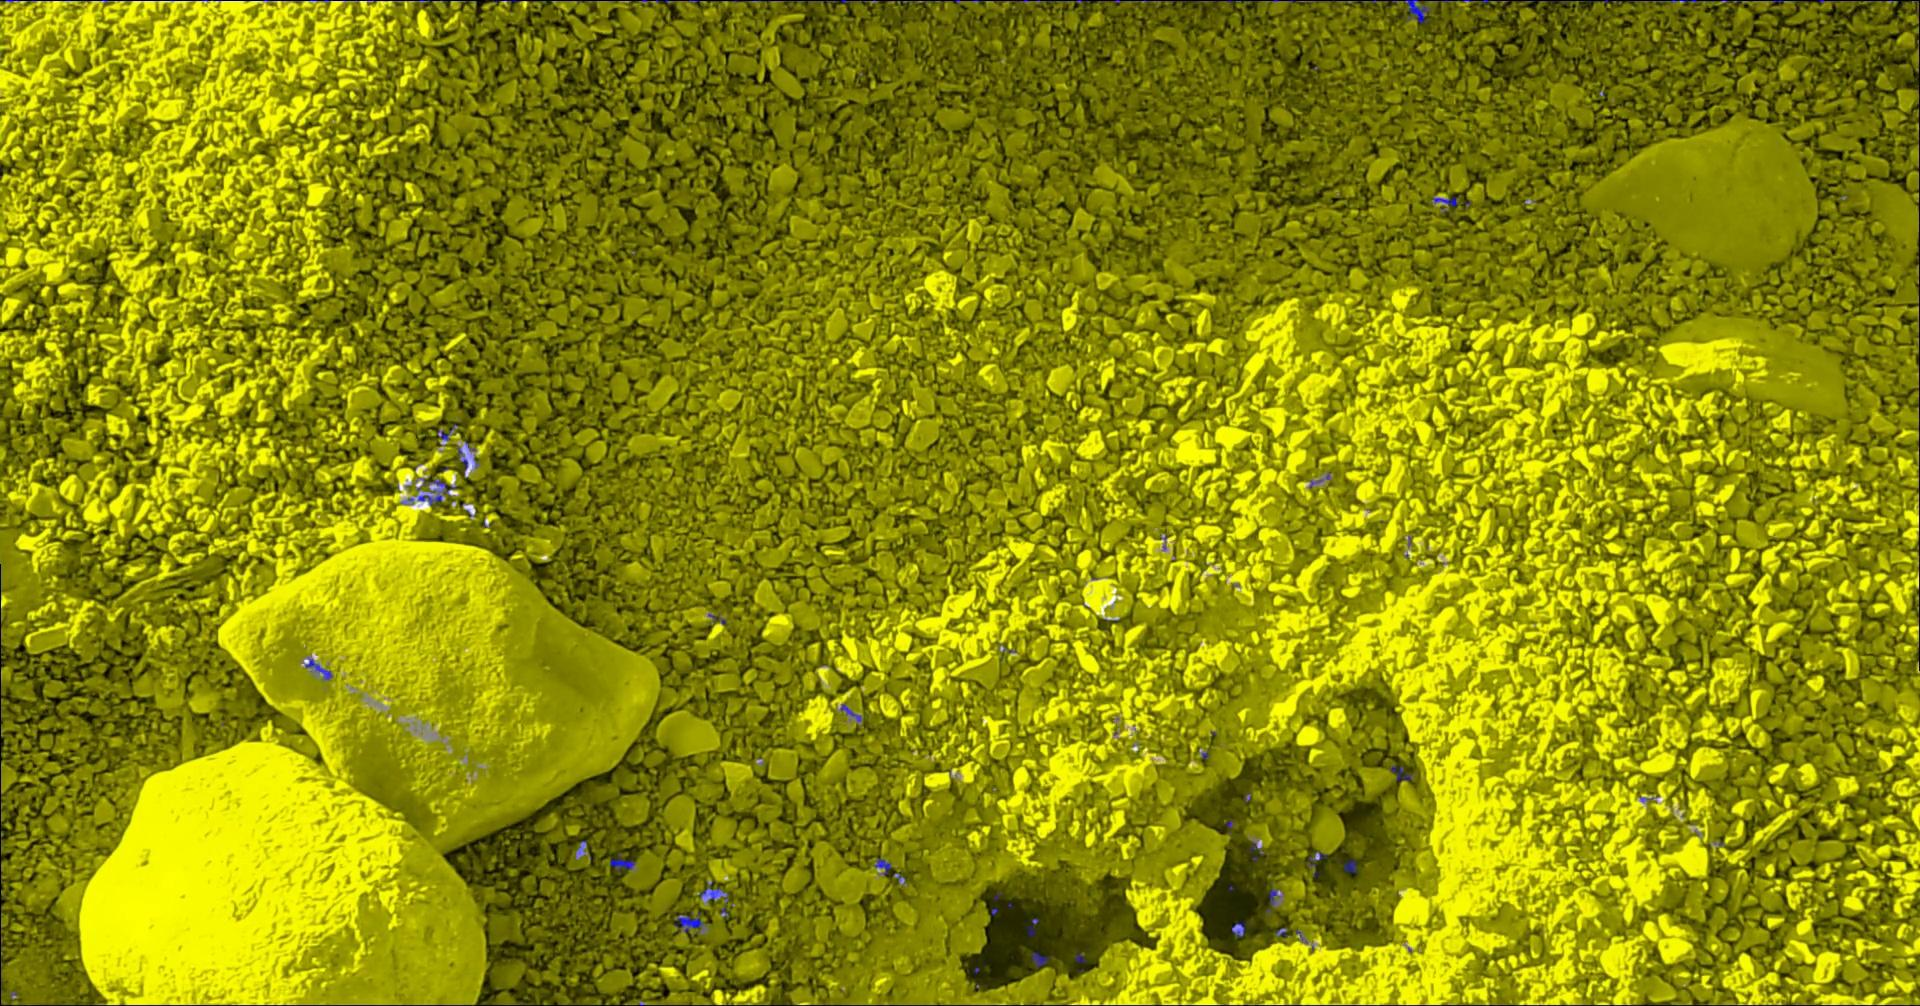ant: (1402, 0, 1490, 22), (406, 476, 455, 506), (697, 882, 728, 917), (673, 911, 703, 935), (305, 658, 331, 680), (1307, 850, 1327, 876), (610, 854, 635, 871), (1265, 882, 1279, 913), (841, 702, 863, 721), (455, 445, 467, 476), (1389, 765, 1413, 781), (872, 857, 891, 875), (1230, 920, 1250, 937), (1431, 196, 1457, 208), (1031, 951, 1051, 967), (1627, 0, 1742, 3), (992, 0, 1090, 3), (782, 0, 879, 3), (1305, 0, 1396, 3), (1025, 917, 1037, 935), (1818, 0, 1898, 3), (1097, 0, 1175, 3), (1343, 857, 1356, 873), (1196, 0, 1262, 3)
